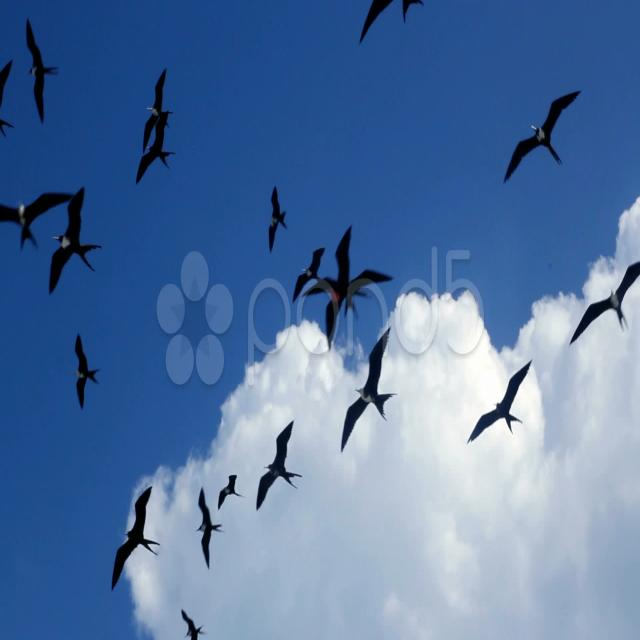bird: (316, 225, 389, 345), (504, 87, 584, 187), (339, 340, 399, 457), (570, 250, 639, 348), (48, 190, 106, 297), (468, 357, 536, 447), (110, 486, 164, 591), (257, 420, 305, 510), (2, 192, 74, 248), (24, 20, 61, 127), (359, 0, 430, 45), (132, 113, 172, 183), (194, 490, 224, 574), (138, 74, 176, 136), (73, 332, 101, 413), (289, 252, 327, 298), (268, 188, 289, 255), (1, 60, 17, 146), (216, 472, 242, 512), (180, 609, 206, 640)
